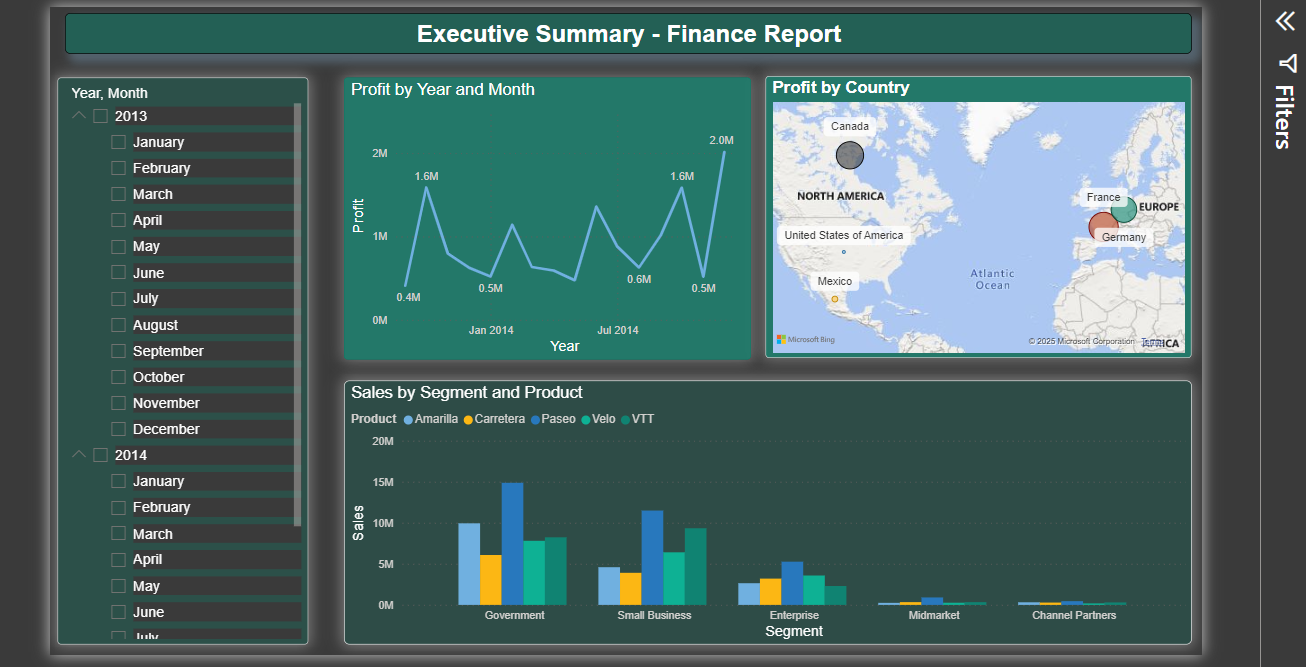

The dashboard page shown, as its layout file describes it:
{"tool":"powerbi","page":{"name":"Page 1","canvas":[1280,720],"ordinal":0},"visuals":[{"type":"textbox","box":[16.7,6.7,1251.7,45],"z":0},{"type":"lineChart","title":"Profit by Year and Month","fields":{"Category":["Calendar.Date.Variation.Date Hierarchy.Year","Calendar.Date.Variation.Date Hierarchy.Month"],"Y":["Sum(financials.Profit)"]},"box":[326.7,78.3,451.7,313.3],"z":1},{"type":"map","title":"Profit by Country","fields":{"Category":["financials.Country"],"Size":["Sum(financials.Profit)"]},"box":[795,76.7,473.3,313.3],"z":2},{"type":"clusteredColumnChart","title":"Sales by Segment and Product","fields":{"Y":["Sum(financials. Sales)"],"Category":["financials.Segment"],"Series":["financials.Product"]},"box":[326.7,415,941.7,293.3],"z":3},{"type":"slicer","fields":{"Values":["Calendar.Date.Variation.Date Hierarchy.Year","Calendar.Date.Variation.Date Hierarchy.Month"]},"box":[8.3,78.3,278.3,630],"z":4}]}

Visuals, with their boxes in screenshot pixels (x1, y1, x2, y2):
textbox: bbox=[56, 3, 1199, 44]
"Profit by Year and Month" lineChart: bbox=[339, 68, 752, 354]
"Profit by Country" map: bbox=[767, 67, 1199, 353]
"Sales by Segment and Product" clusteredColumnChart: bbox=[339, 376, 1199, 643]
slicer - Calendar.Date.Variation.Date Hierarchy.Year x Calendar.Date.Variation.Date Hierarchy.Month: bbox=[48, 68, 302, 643]
